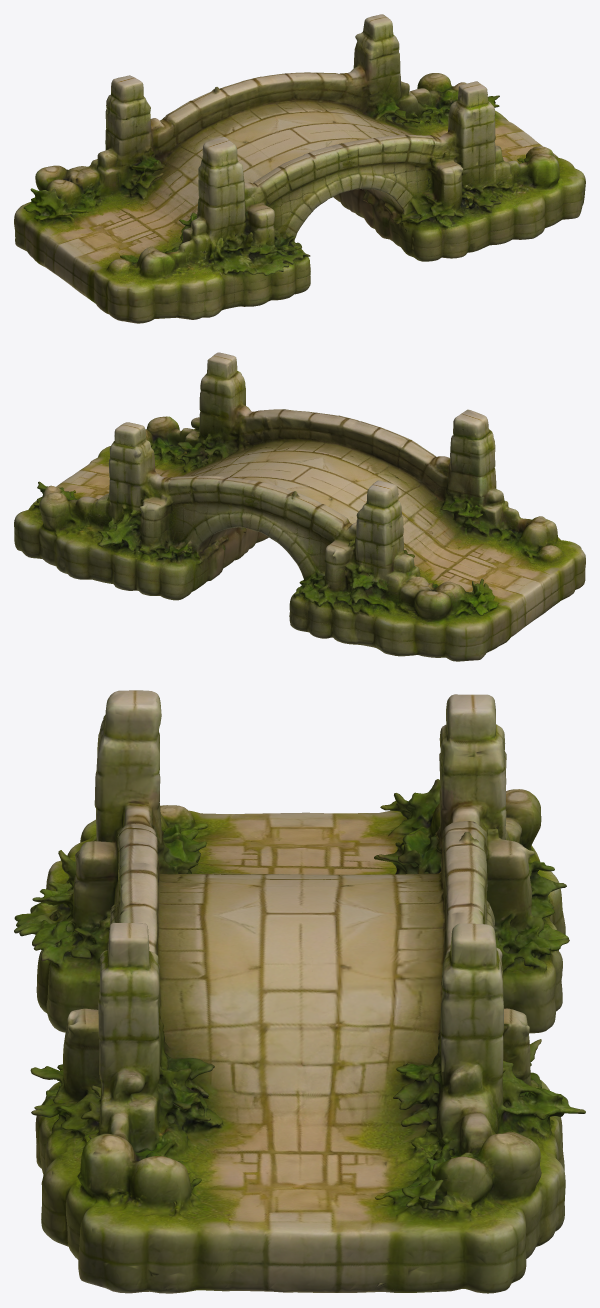
File: bridge_sector_arc_01.glb
3 renders of one model, top to bottom at view 1: azimuth 30°, elevation 25°; view 2: azimuth 150°, elevation 25°; view 3: azimuth 270°, elevation 25°, orthographic. The views are drawn at different scales.
Visible parts, largest first — view 1: Mesh_0.001; view 2: Mesh_0.001; view 3: Mesh_0.001.
Boxes of the visible parts, x1=… form: Mesh_0.001: x1=14, y1=14, x2=585, y2=323; Mesh_0.001: x1=14, y1=352, x2=585, y2=661; Mesh_0.001: x1=14, y1=690, x2=585, y2=1293.
Size of the model in its own units: 16.49 by 5 by 9.34.
1 material, 1 textured.
